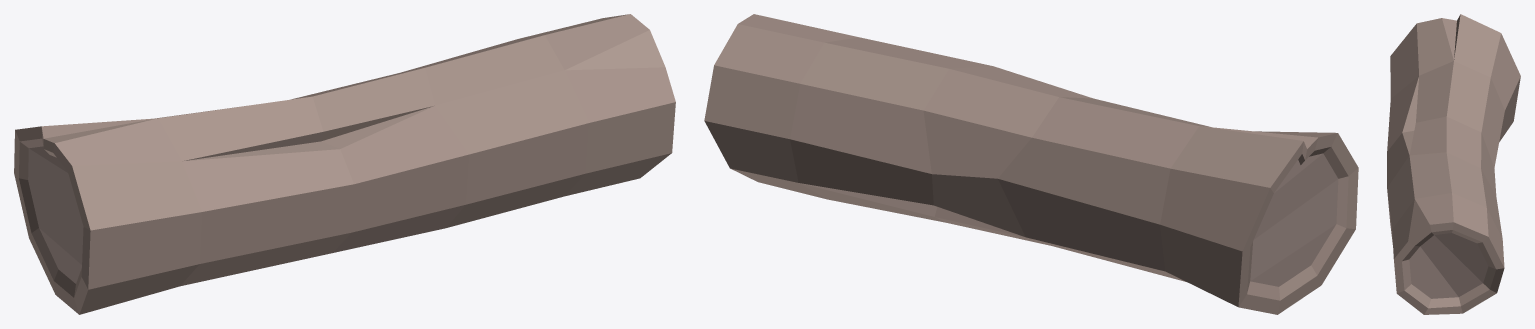
File: log.glb
The picture shows the model from 3 angles, left to right: view 1: azimuth 30°, elevation 25°; view 2: azimuth 150°, elevation 25°; view 3: azimuth 270°, elevation 25°; orthographic projection. The views are drawn at different scales.
Visible parts, largest first — view 1: WoodLog; view 2: WoodLog; view 3: WoodLog.
Part boxes in pixels (x1,y1,x2,y2): WoodLog: [14, 14, 675, 314]; WoodLog: [704, 14, 1358, 314]; WoodLog: [1387, 14, 1520, 314].
Size of the model in its own units: 3.77 by 1.09 by 1.11.
